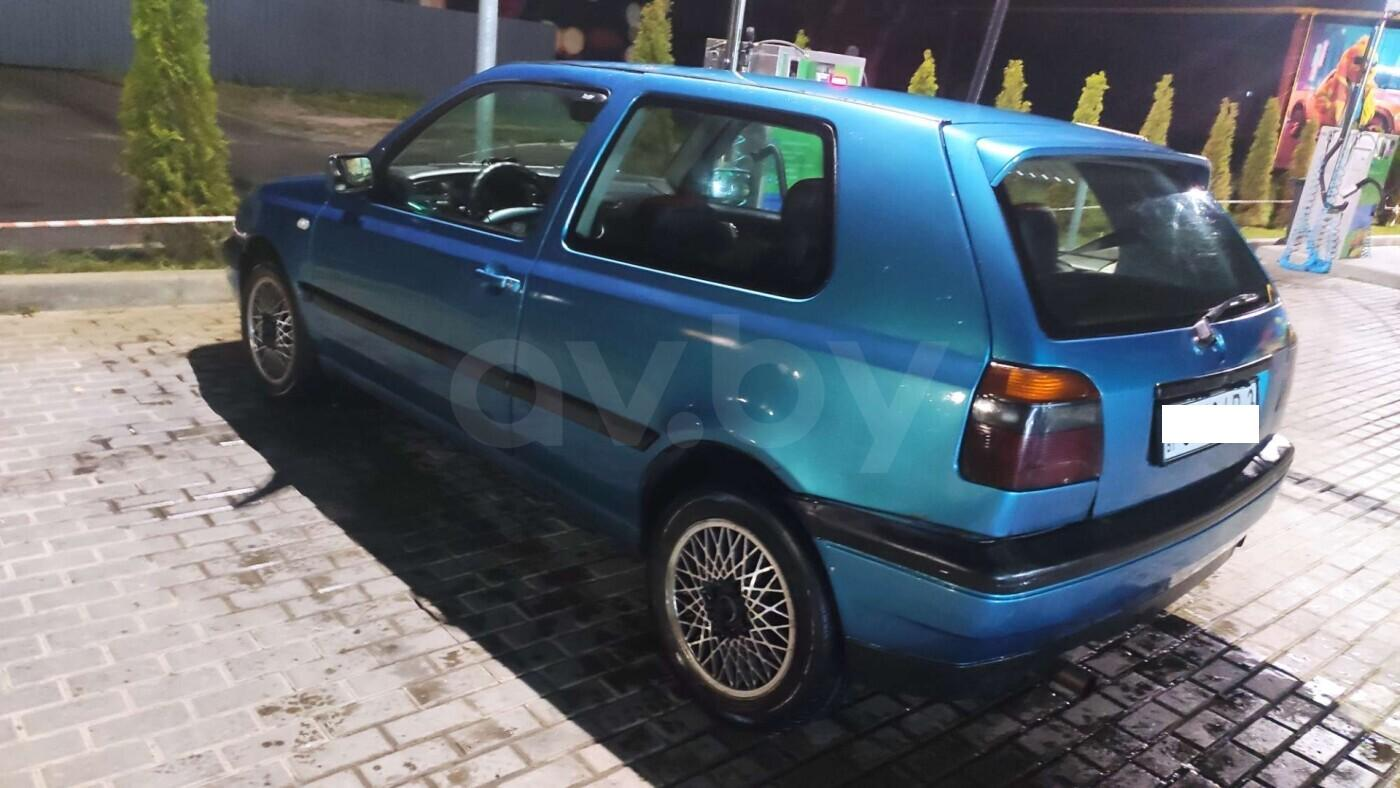Golf_1991-2000: (230, 55, 1295, 709)
